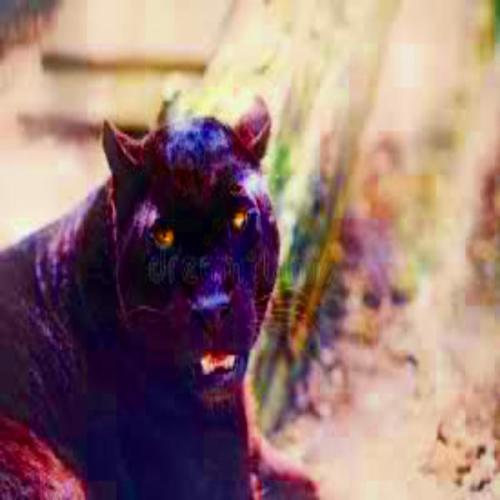panther-endangered: (0, 93, 315, 500)
